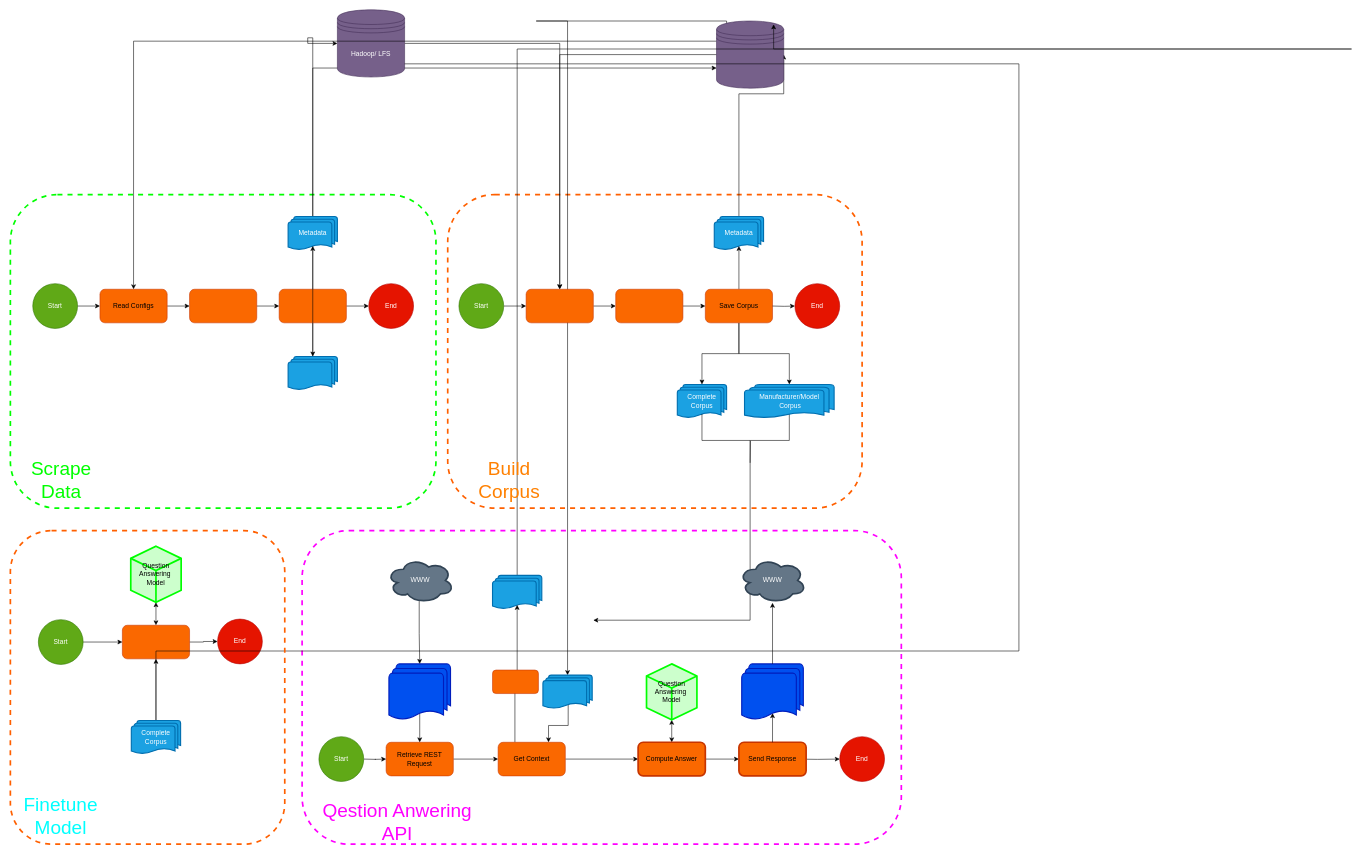
This 1366x860 diagram has some shape labels left out. Here are the shapes that lost their labels. From the top down, the box of each, then its label:
(716, 20, 784, 88): Elastic
(189, 289, 257, 323): Crawl Websites
(279, 289, 346, 323): Save Data
(526, 289, 593, 323): Retrieve Data
(615, 289, 683, 323): Segmentation
(287, 356, 338, 390): Manuals
(492, 575, 542, 609): Manufacturer Model
(122, 625, 190, 659): Train Model
(388, 663, 451, 720): JSON: Manufacturer Model Question
(492, 669, 538, 694): Embedd Question
(542, 674, 592, 709): Context
(741, 663, 804, 720): JSON: Question Answer
